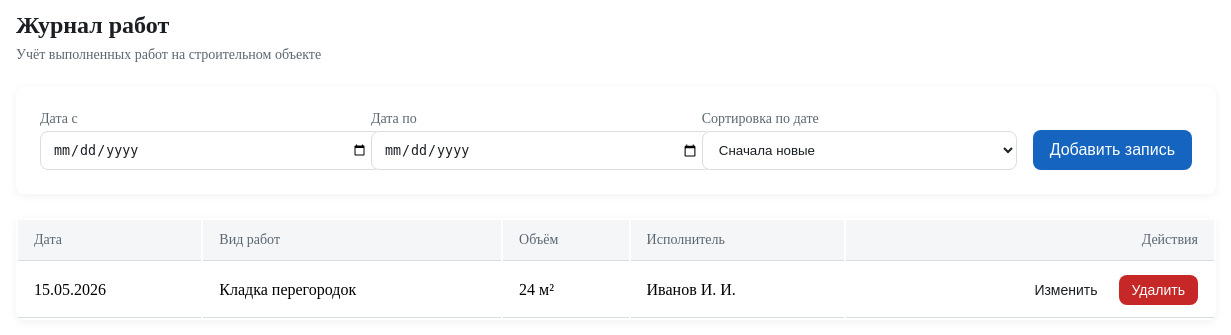
Test: WorkLogPage › hides entries table when date range is invalid
Expected: the text "Кладка перегородок" is shown, [203,263,501,318]
Type "2026-12-01" into the date field labelled "Дата с" at (210, 151), box [40,131,381,170]
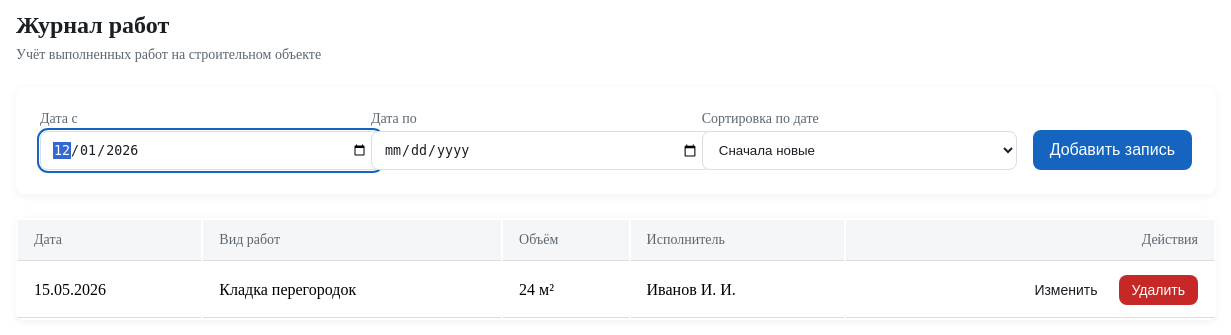
Type "2026-01-01" into the date field labelled "Дата по" at (541, 151), box [371,131,712,170]
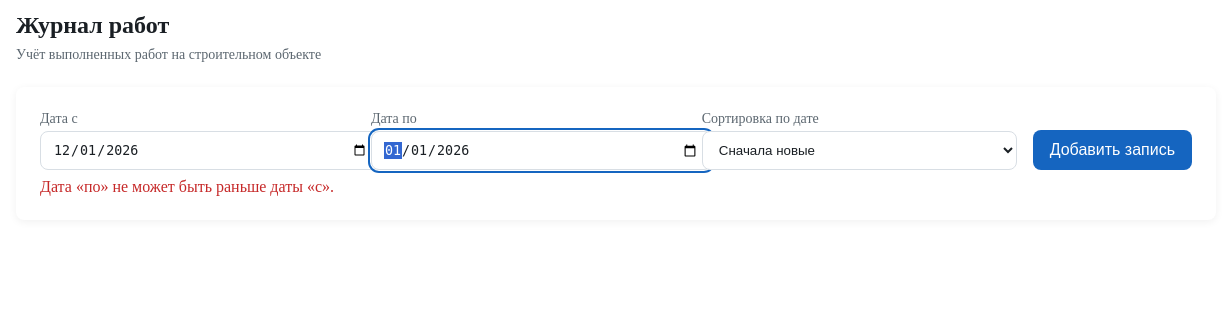
Expected: the text "Дата «по» не может быть раньше даты «с»." is shown, [40,178,334,195]
Expected: the text "Кладка перегородок" is gone
